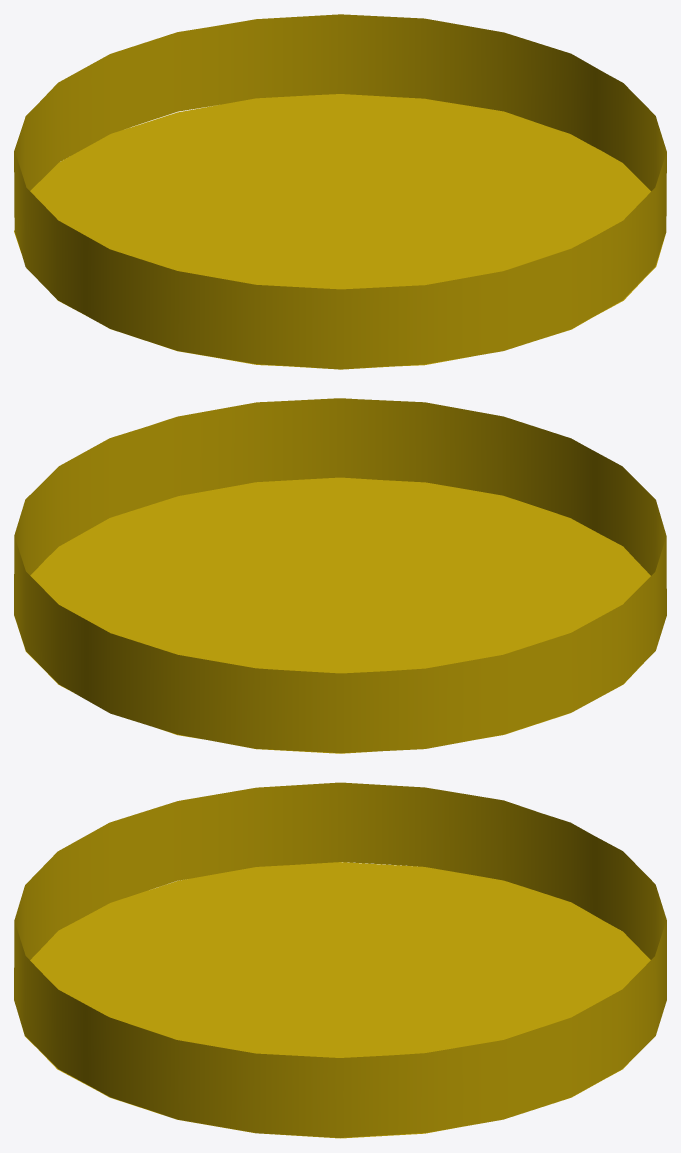
File: original-14.obj
The picture shows the model from 3 angles, top to bottom: view 1: azimuth 30°, elevation 25°; view 2: azimuth 150°, elevation 25°; view 3: azimuth 270°, elevation 25°; orthographic projection.
Visible parts, largest first — view 1: #ID104; view 2: #ID104; view 3: #ID104.
Part boxes in pixels (x1=…): #ID104: x1=14, y1=14, x2=666, y2=369; #ID104: x1=14, y1=398, x2=666, y2=753; #ID104: x1=14, y1=782, x2=666, y2=1138.
Size of the model in its own units: 0.1045 by 0.0143 by 0.1044.
